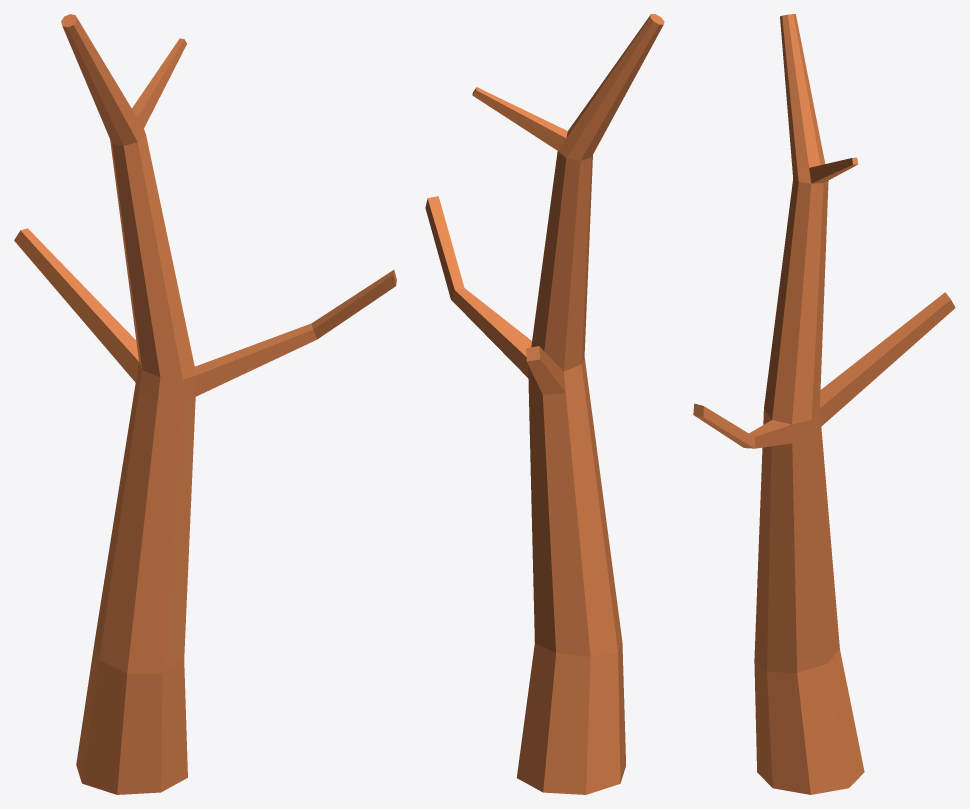
File: Trunk.glb
The picture shows the model from 3 angles, left to right: view 1: azimuth 30°, elevation 25°; view 2: azimuth 150°, elevation 25°; view 3: azimuth 270°, elevation 25°; orthographic projection. The views are drawn at different scales.
Visible parts, largest first — view 1: 柱体; view 2: 柱体; view 3: 柱体.
Boxes of the visible parts, left/top/right/bottom form: 柱体: left=14, top=14, right=396, bottom=794; 柱体: left=425, top=14, right=664, bottom=794; 柱体: left=693, top=14, right=955, bottom=794.
Bounding box in the file's own units: 2.06 × 5.34 × 1.75.
